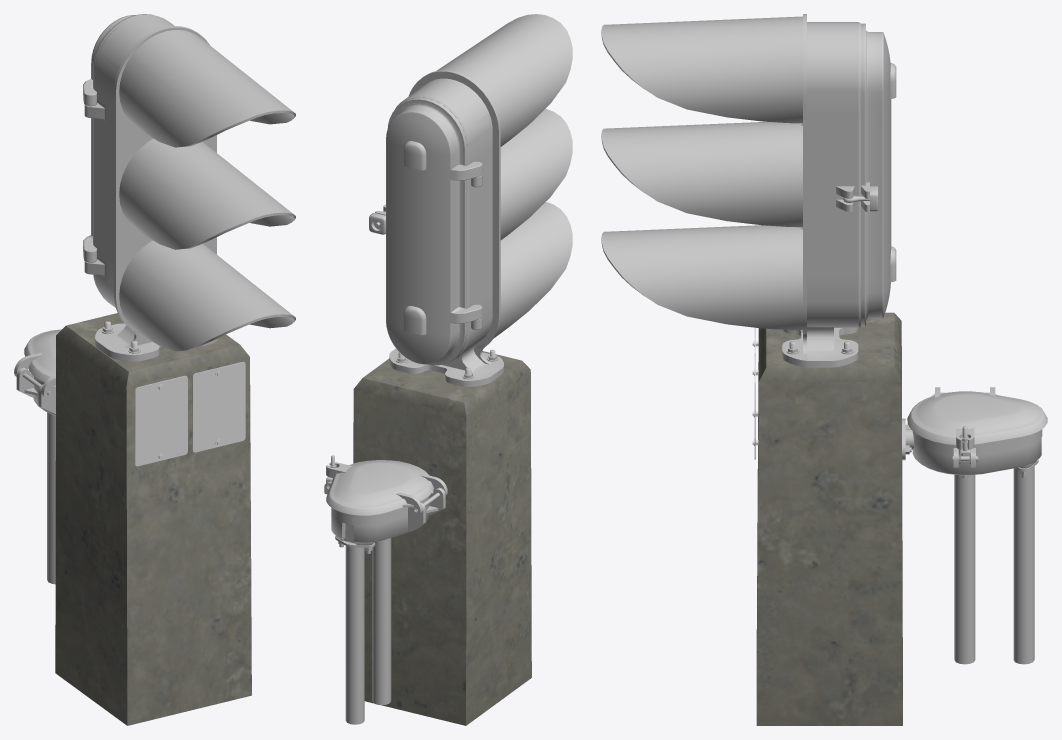
Rendered from RWLight_DWARF_TRIPLE.fbx.
3 views of the same model, side by side, from view 1: azimuth 30°, elevation 25°; view 2: azimuth 150°, elevation 25°; view 3: azimuth 270°, elevation 25° (orthographic). The views are drawn at different scales.
Visible parts, largest first — view 1: RWLight_DWARF_TRIPLE_OSNOVA, RWLight_DWARF_TRIPLE, RWLight_DWARF_TRIPLE_Muft, TLight_H1_Lab1.001, TLight_H1_Lab1; view 2: RWLight_DWARF_TRIPLE, RWLight_DWARF_TRIPLE_OSNOVA, RWLight_DWARF_TRIPLE_Muft; view 3: RWLight_DWARF_TRIPLE, RWLight_DWARF_TRIPLE_OSNOVA, RWLight_DWARF_TRIPLE_Muft.
Boxes of the visible parts, box(x1,y1,x2,y2) form: RWLight_DWARF_TRIPLE_OSNOVA: box(55, 313, 251, 725); RWLight_DWARF_TRIPLE: box(83, 14, 295, 361); RWLight_DWARF_TRIPLE_Muft: box(14, 321, 140, 584); TLight_H1_Lab1.001: box(192, 362, 245, 452); TLight_H1_Lab1: box(135, 375, 187, 466); RWLight_DWARF_TRIPLE: box(369, 14, 572, 386); RWLight_DWARF_TRIPLE_OSNOVA: box(353, 351, 531, 725); RWLight_DWARF_TRIPLE_Muft: box(324, 349, 498, 724); RWLight_DWARF_TRIPLE: box(601, 14, 896, 367); RWLight_DWARF_TRIPLE_OSNOVA: box(756, 312, 902, 725); RWLight_DWARF_TRIPLE_Muft: box(786, 341, 1047, 664).
Bounding box in the file's own units: 316 × 1612 × 965.
